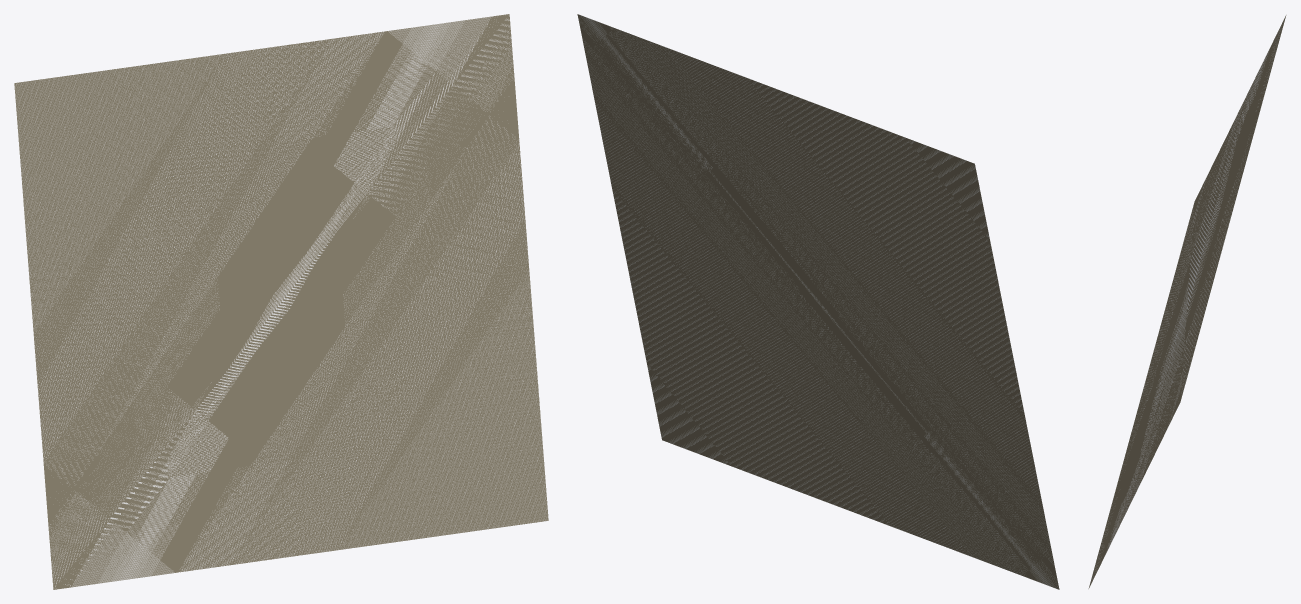
Rendered from 大本钟119.dae.
3 views of the same model, side by side, from view 1: azimuth 30°, elevation 25°; view 2: azimuth 150°, elevation 25°; view 3: azimuth 270°, elevation 25° (orthographic). The views are drawn at different scales.
Parts seen in each view (by area): view 1: SketchUp; view 2: SketchUp; view 3: SketchUp.
Part boxes in pixels (x1,y1,x2,y2): SketchUp: (14, 14, 548, 589); SketchUp: (577, 14, 1059, 589); SketchUp: (1088, 15, 1286, 588).
Size of the model in its own units: 41.05 by 17.46 by 38.6.
